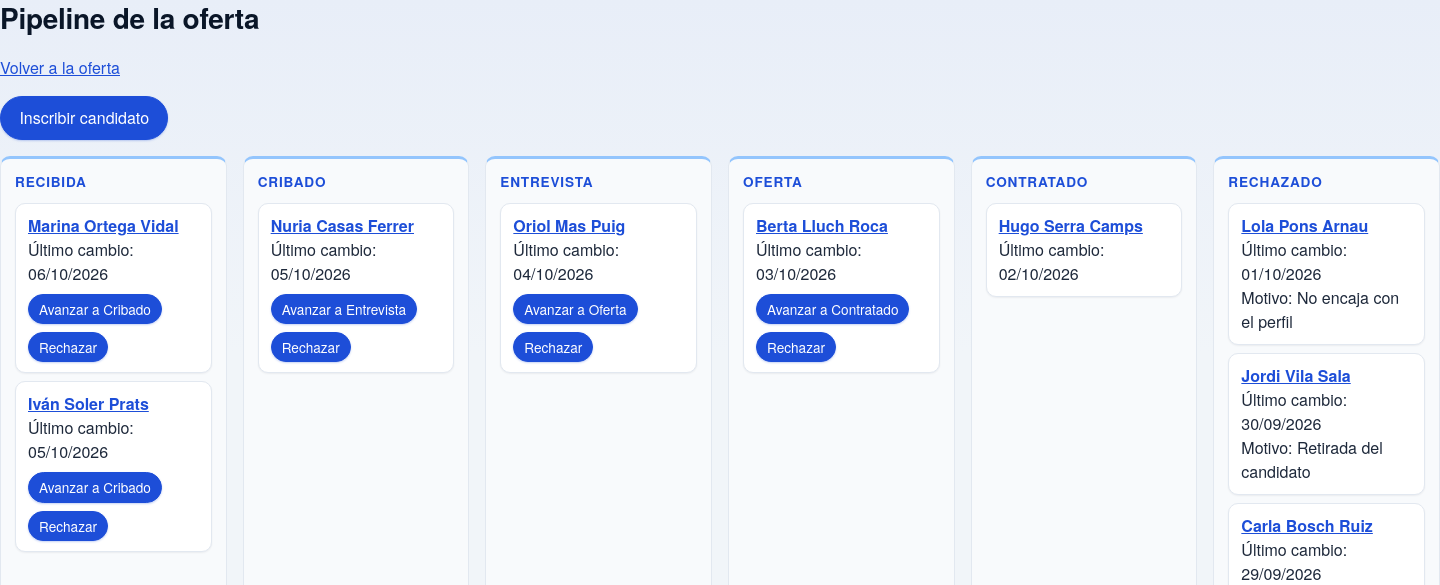
Test: PipelineScreen: enlaces al detalle de la inscripción › CA-36 409 DUPLICATE con existingId → Ver la inscripción a /applications/91; el texto de la alerta no cambia
Step 1. Click the button "Inscribir candidato" → [84, 118], box [0,96,168,140]
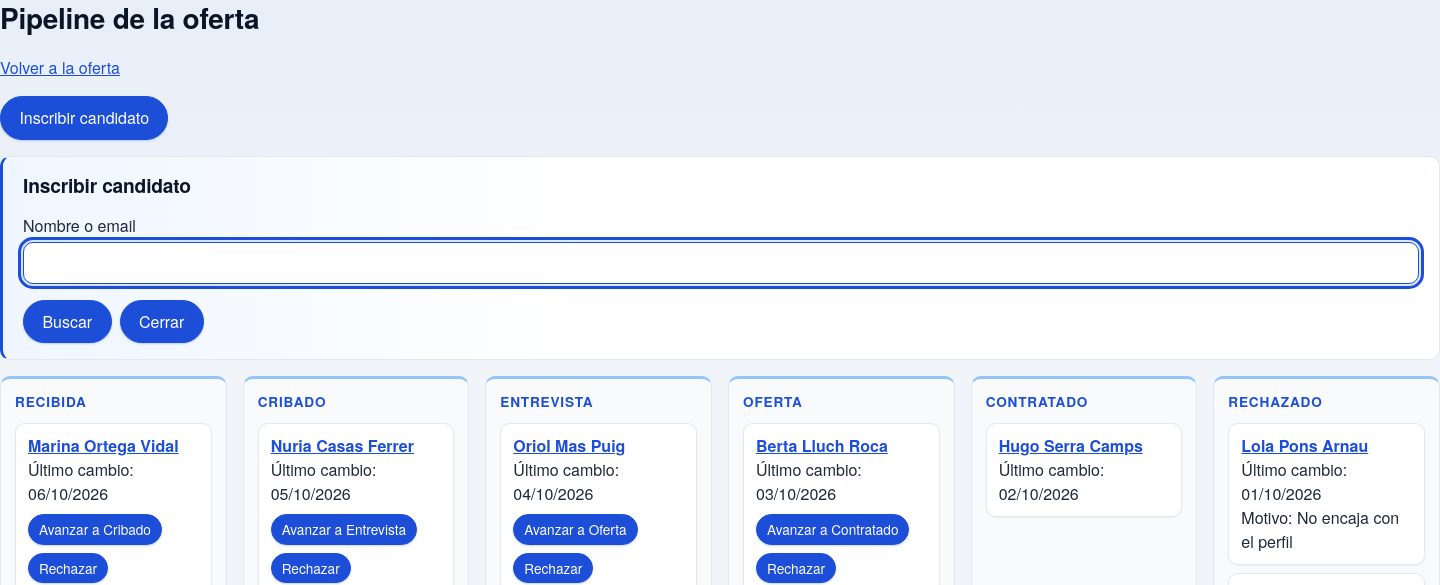
Step 2. Type "ana" into the search field labelled "Nombre o email" → [721, 263], box [23,242,1419,284]
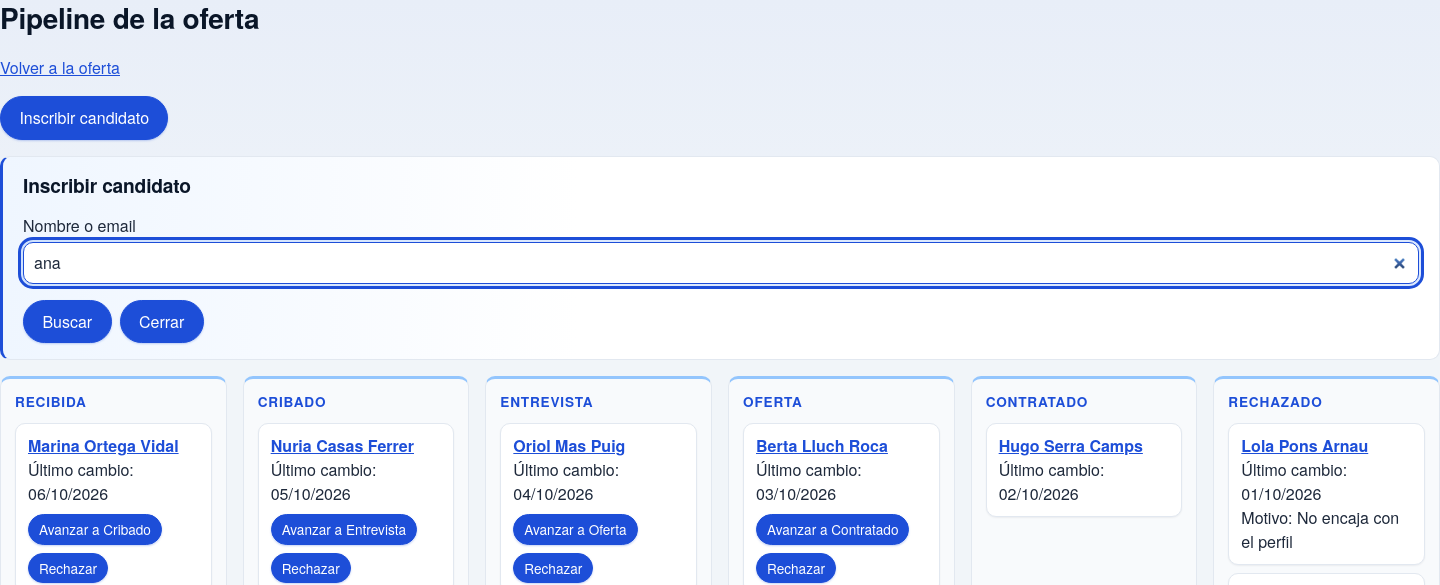
Step 3. Click the button "Buscar" → [67, 322], box [23,300,112,344]
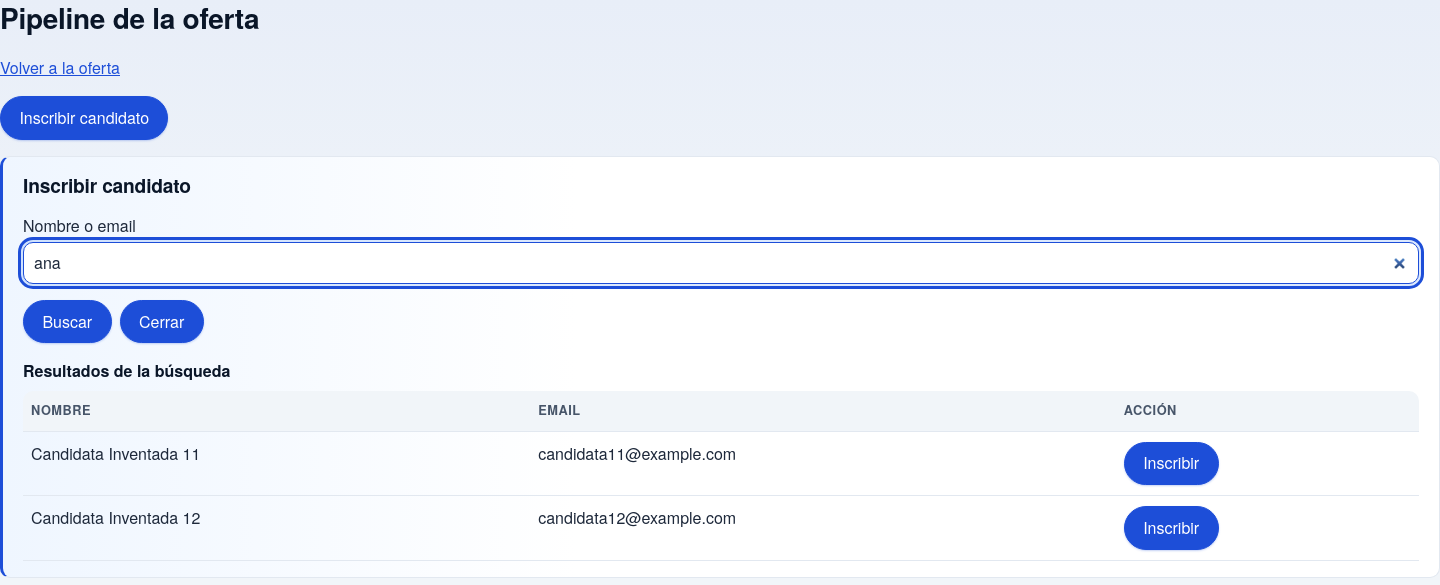
Step 4. Click the button "Inscribir" in the row of "Candidata Inventada 12" → [1171, 528], box [1124,506,1219,550]
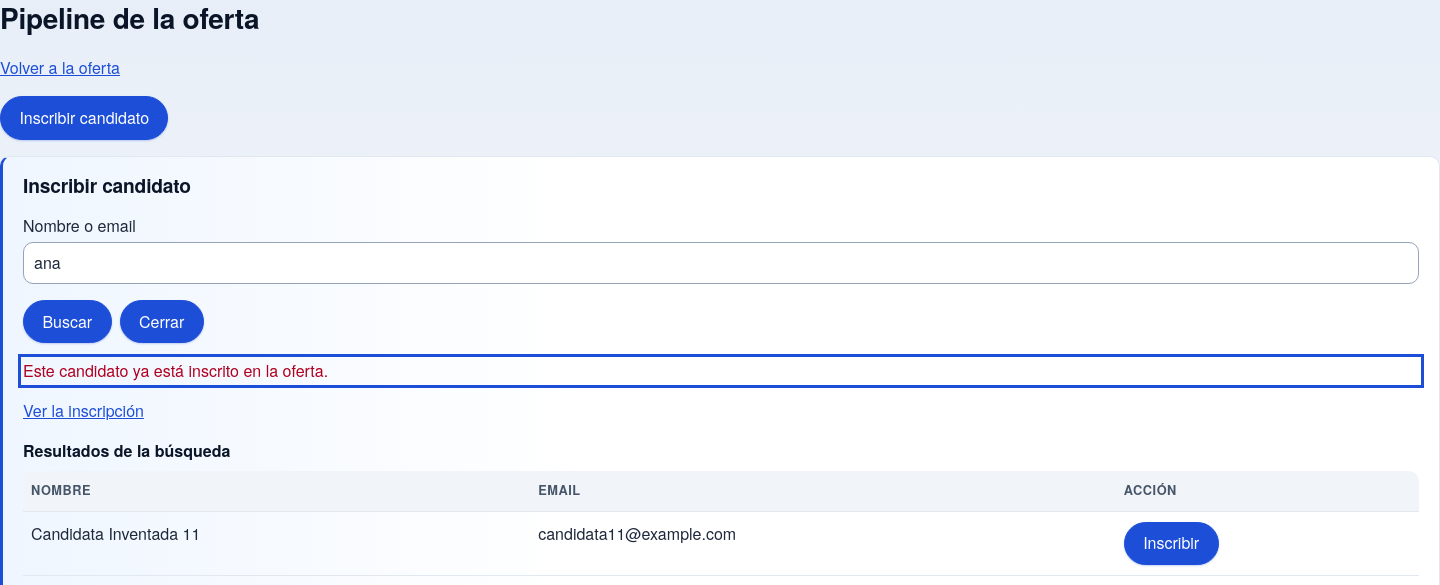
Result: the message reads "Este candidato ya está inscrito en la oferta." at [23,360,328,382]
